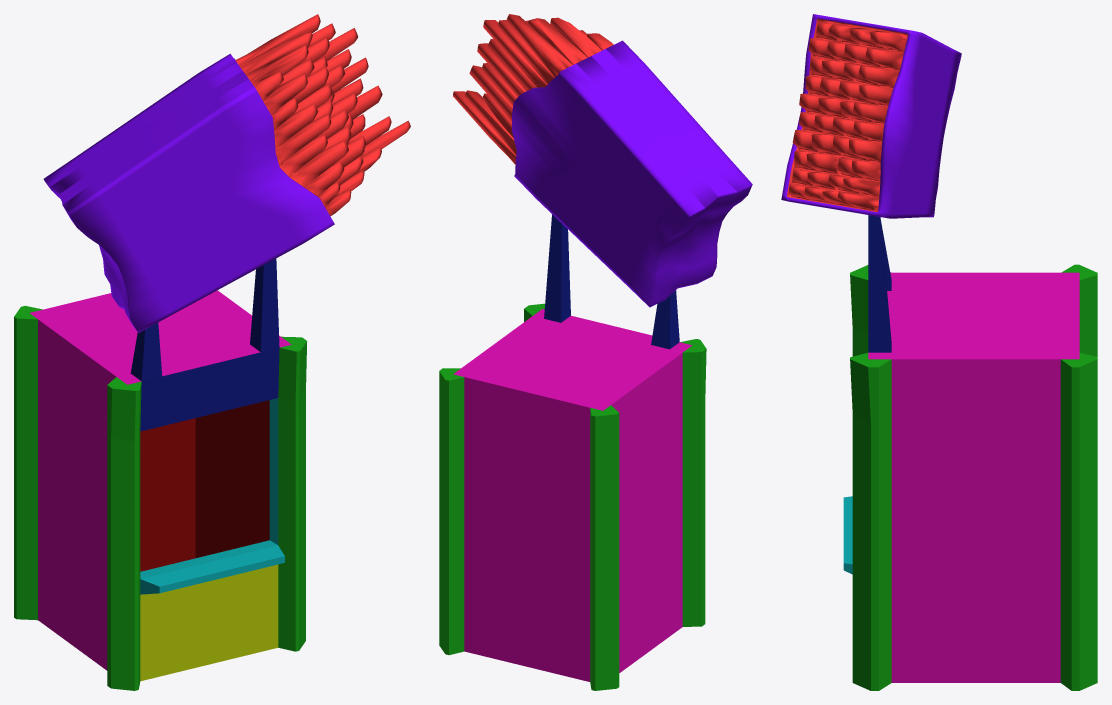
The model's file is FBot_low.fbx.
3 views of the same model, side by side, from view 1: azimuth 30°, elevation 25°; view 2: azimuth 150°, elevation 25°; view 3: azimuth 270°, elevation 25° (orthographic). The views are drawn at different scales.
Parts seen in each view (by area): view 1: FryBooth_low, Fries_low; view 2: FryBooth_low, Fries_low; view 3: FryBooth_low, Fries_low.
Boxes of the visible parts, box(x1,y1,x2,y2) form: FryBooth_low: box(14, 258, 307, 690); Fries_low: box(43, 14, 410, 333); FryBooth_low: box(439, 214, 706, 690); Fries_low: box(453, 14, 752, 307); FryBooth_low: box(843, 215, 1097, 690); Fries_low: box(781, 14, 961, 218).
Bounding box in the file's own units: 160 × 282 × 121.
